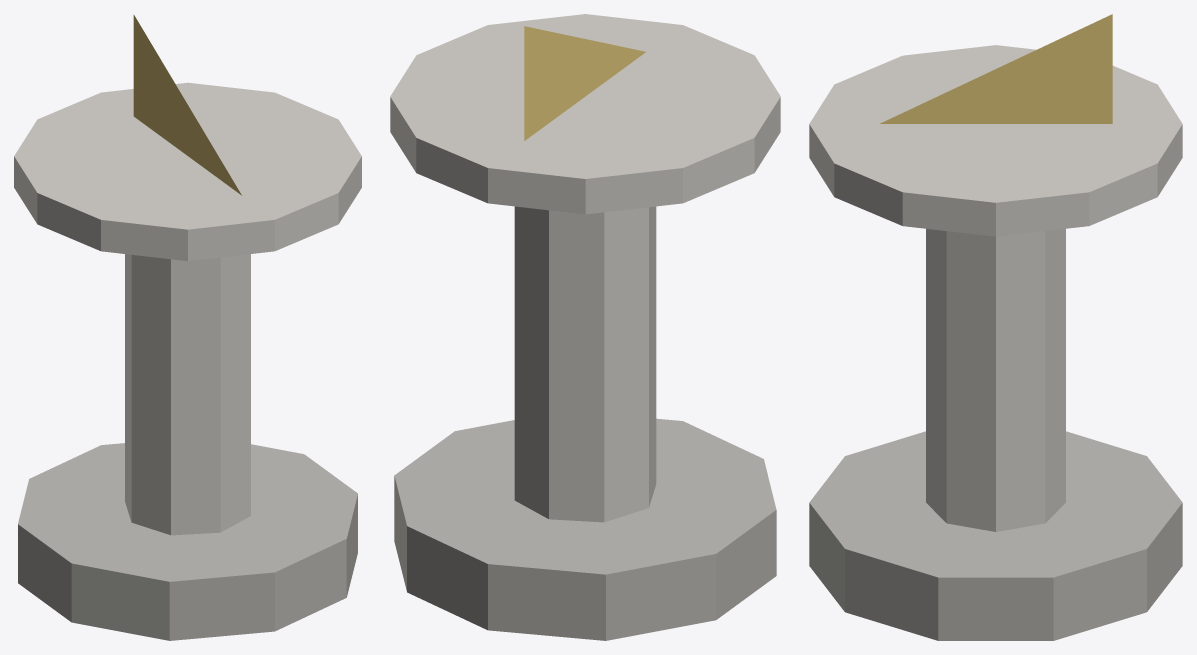
Rendered from sundial.glb.
The picture shows the model from 3 angles, left to right: view 1: azimuth 30°, elevation 25°; view 2: azimuth 150°, elevation 25°; view 3: azimuth 270°, elevation 25°; orthographic projection. The views are drawn at different scales.
Parts seen in each view (by area): view 1: sundial; view 2: sundial; view 3: sundial.
Part boxes in pixels (bbox=[...]): sundial: bbox=[14, 14, 361, 640]; sundial: bbox=[390, 14, 780, 640]; sundial: bbox=[809, 14, 1182, 640].
Bounding box in the file's own units: 0.8 × 1.3 × 0.8.
